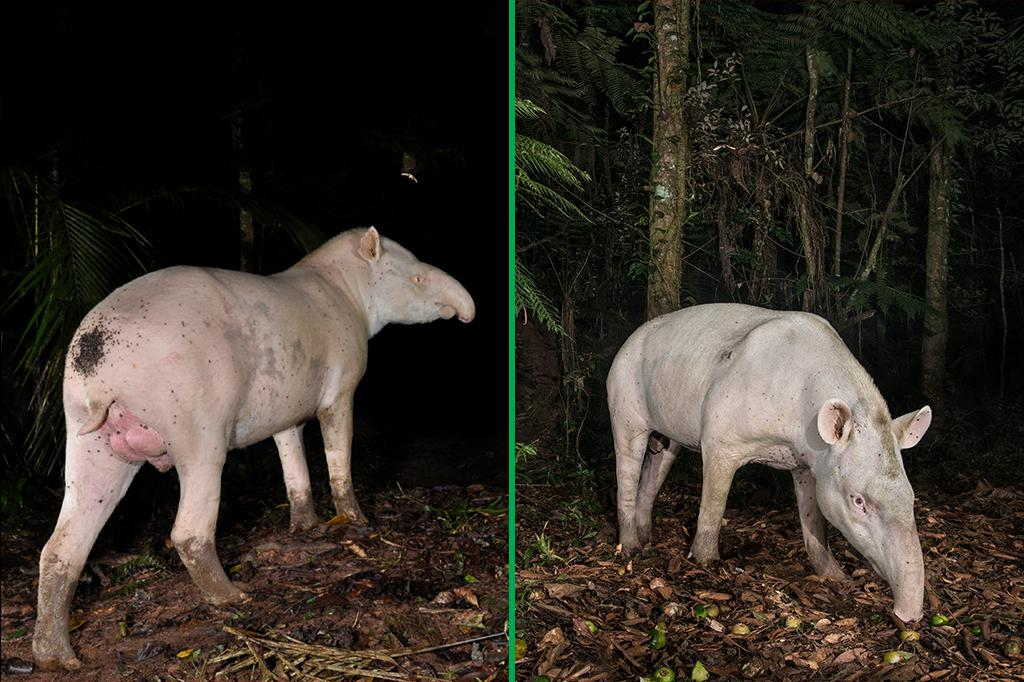Anta: (24, 217, 492, 677), (592, 296, 947, 632)
